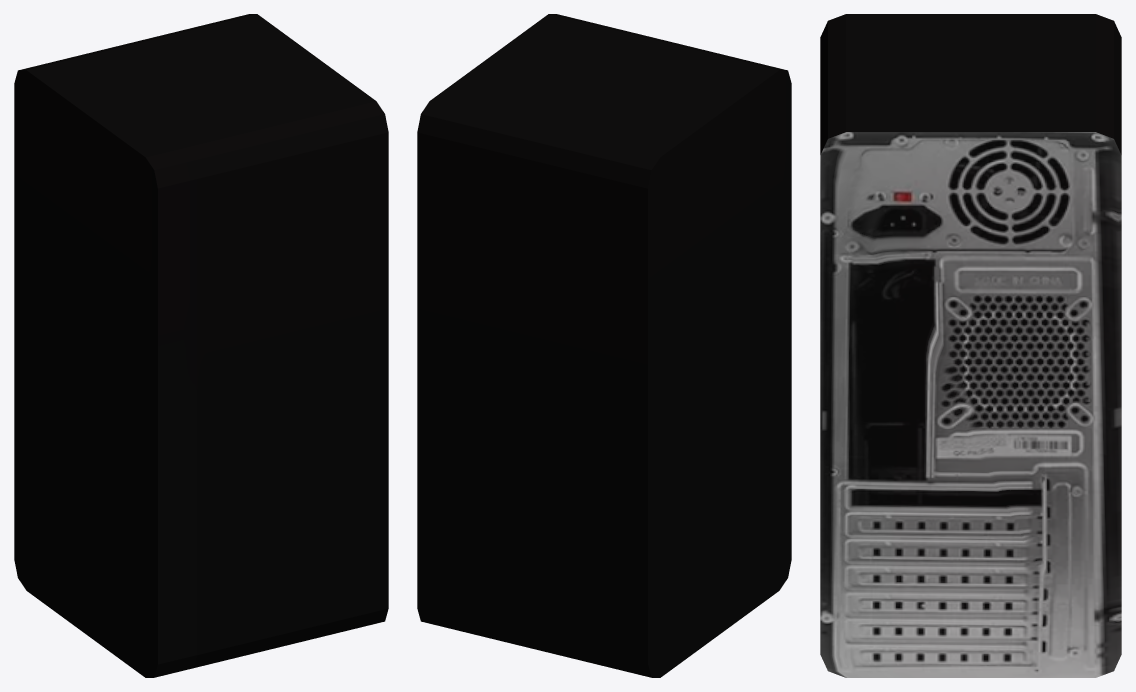
The model's file is Torre.fbx.
The picture shows the model from 3 angles, left to right: view 1: azimuth 30°, elevation 25°; view 2: azimuth 150°, elevation 25°; view 3: azimuth 270°, elevation 25°; orthographic projection. The views are drawn at different scales.
Visible parts, largest first — view 1: Torre; view 2: Torre; view 3: Torre.
Boxes of the visible parts, left/top/right/bottom form: Torre: left=14, top=14, right=388, bottom=677; Torre: left=417, top=14, right=791, bottom=677; Torre: left=820, top=14, right=1121, bottom=677.
Bounding box in the file's own units: 186 × 400 × 200.
